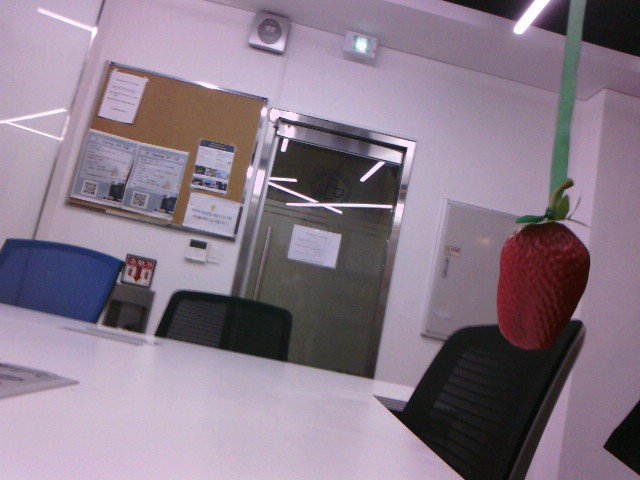strawberry: (489, 213, 597, 351)
